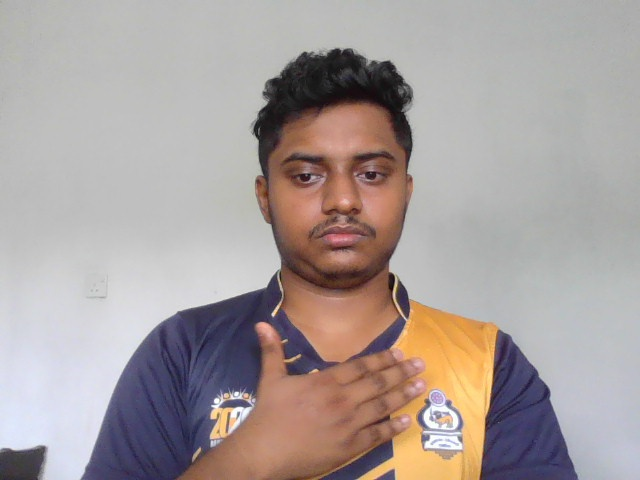Please: (250, 318, 427, 476)
